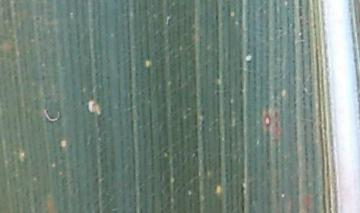tarspot: (31, 13, 44, 22), (219, 4, 227, 12)
